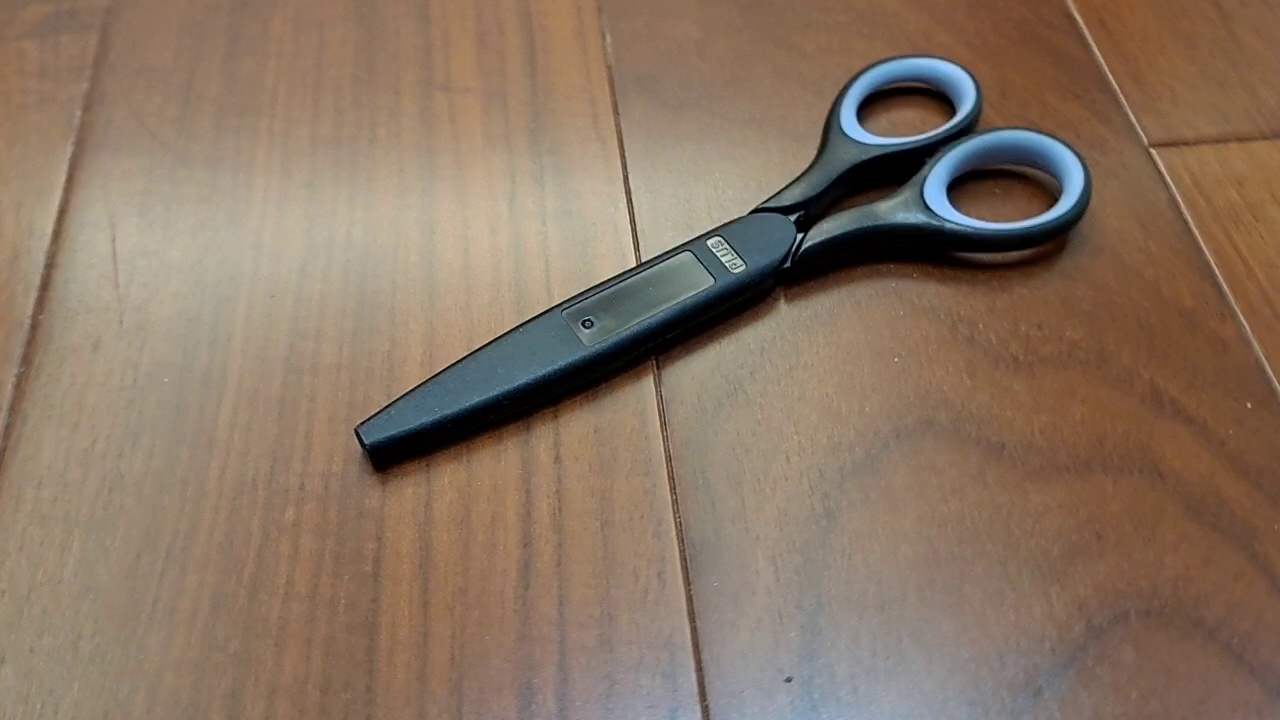scissors: (352, 51, 1094, 475)
